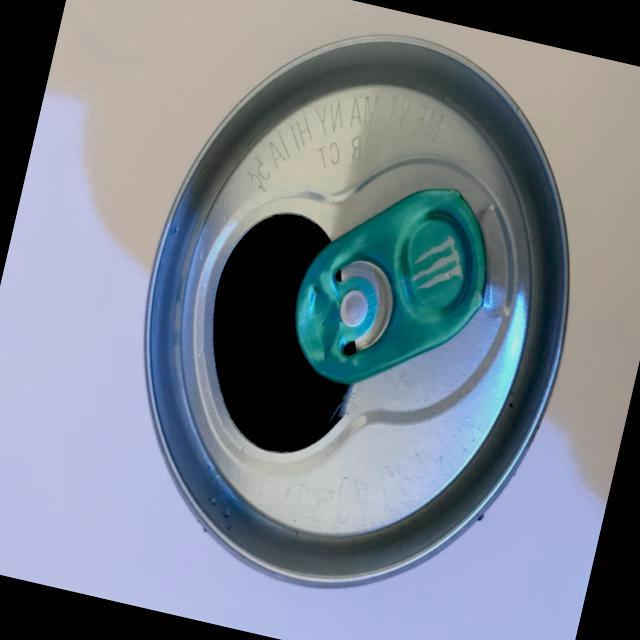metal: (70, 0, 638, 640)
